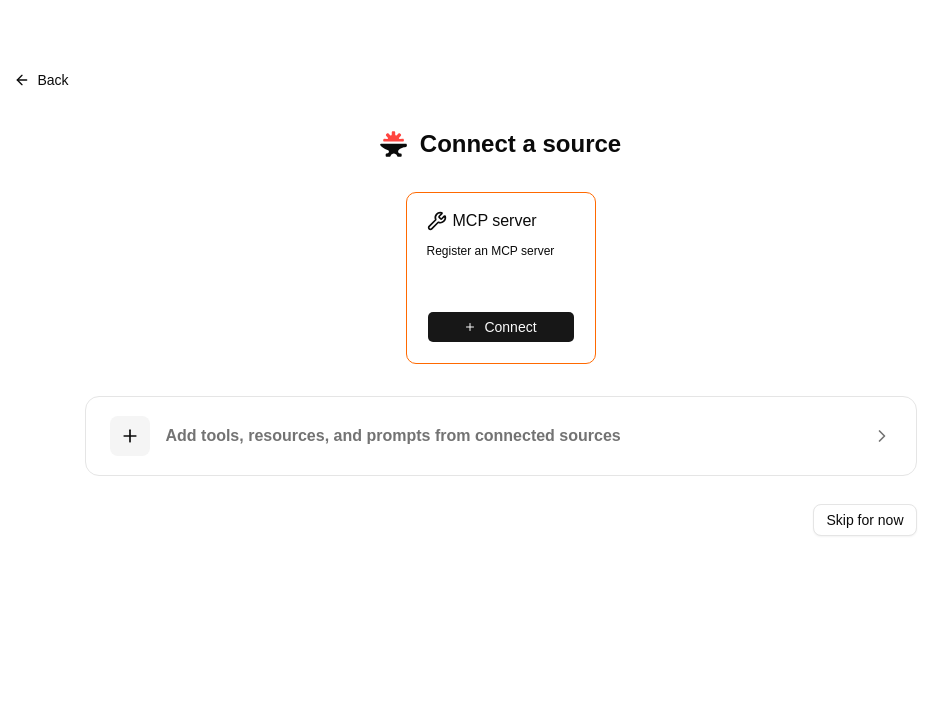
Test case: SourceSelection › shows an empty message when no MCP servers are available
Click the button "Add tools, resources, and prompts from connected sources": (500, 436) [84, 396, 916, 476]
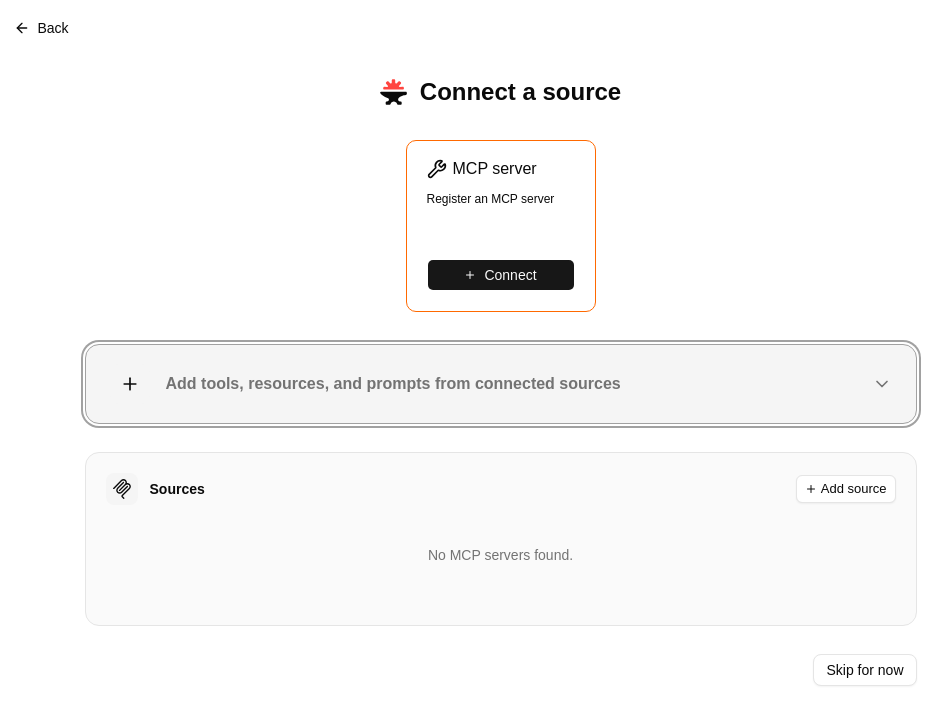
Result: the text "No MCP servers found." is shown at [428, 547, 573, 563]
